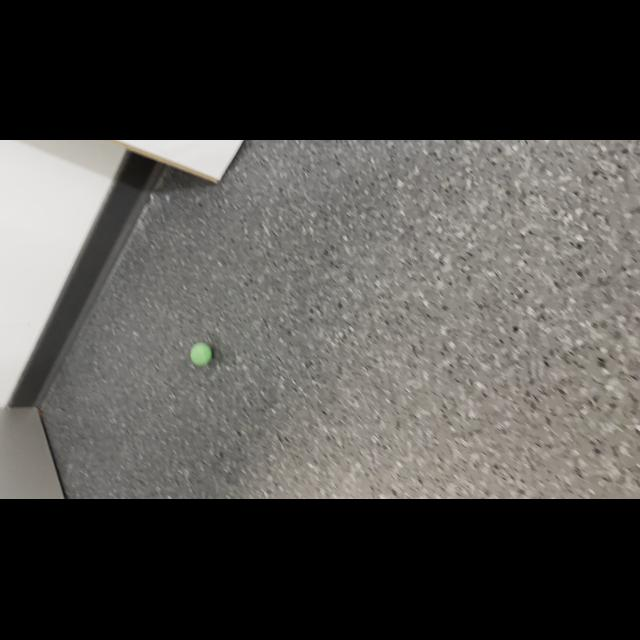objects: (184, 338, 216, 370)
